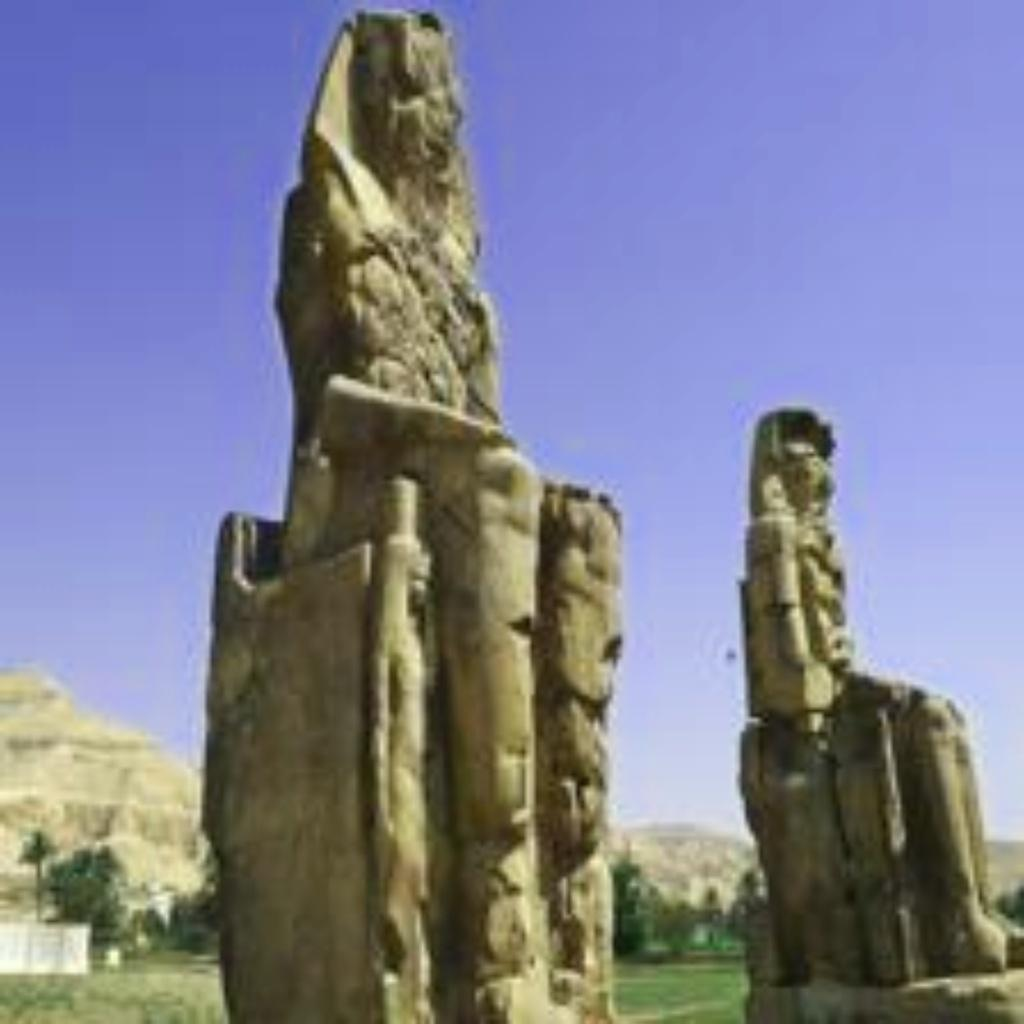Colossoi of Memnon: (192, 0, 631, 1019), (722, 398, 1020, 1020)
